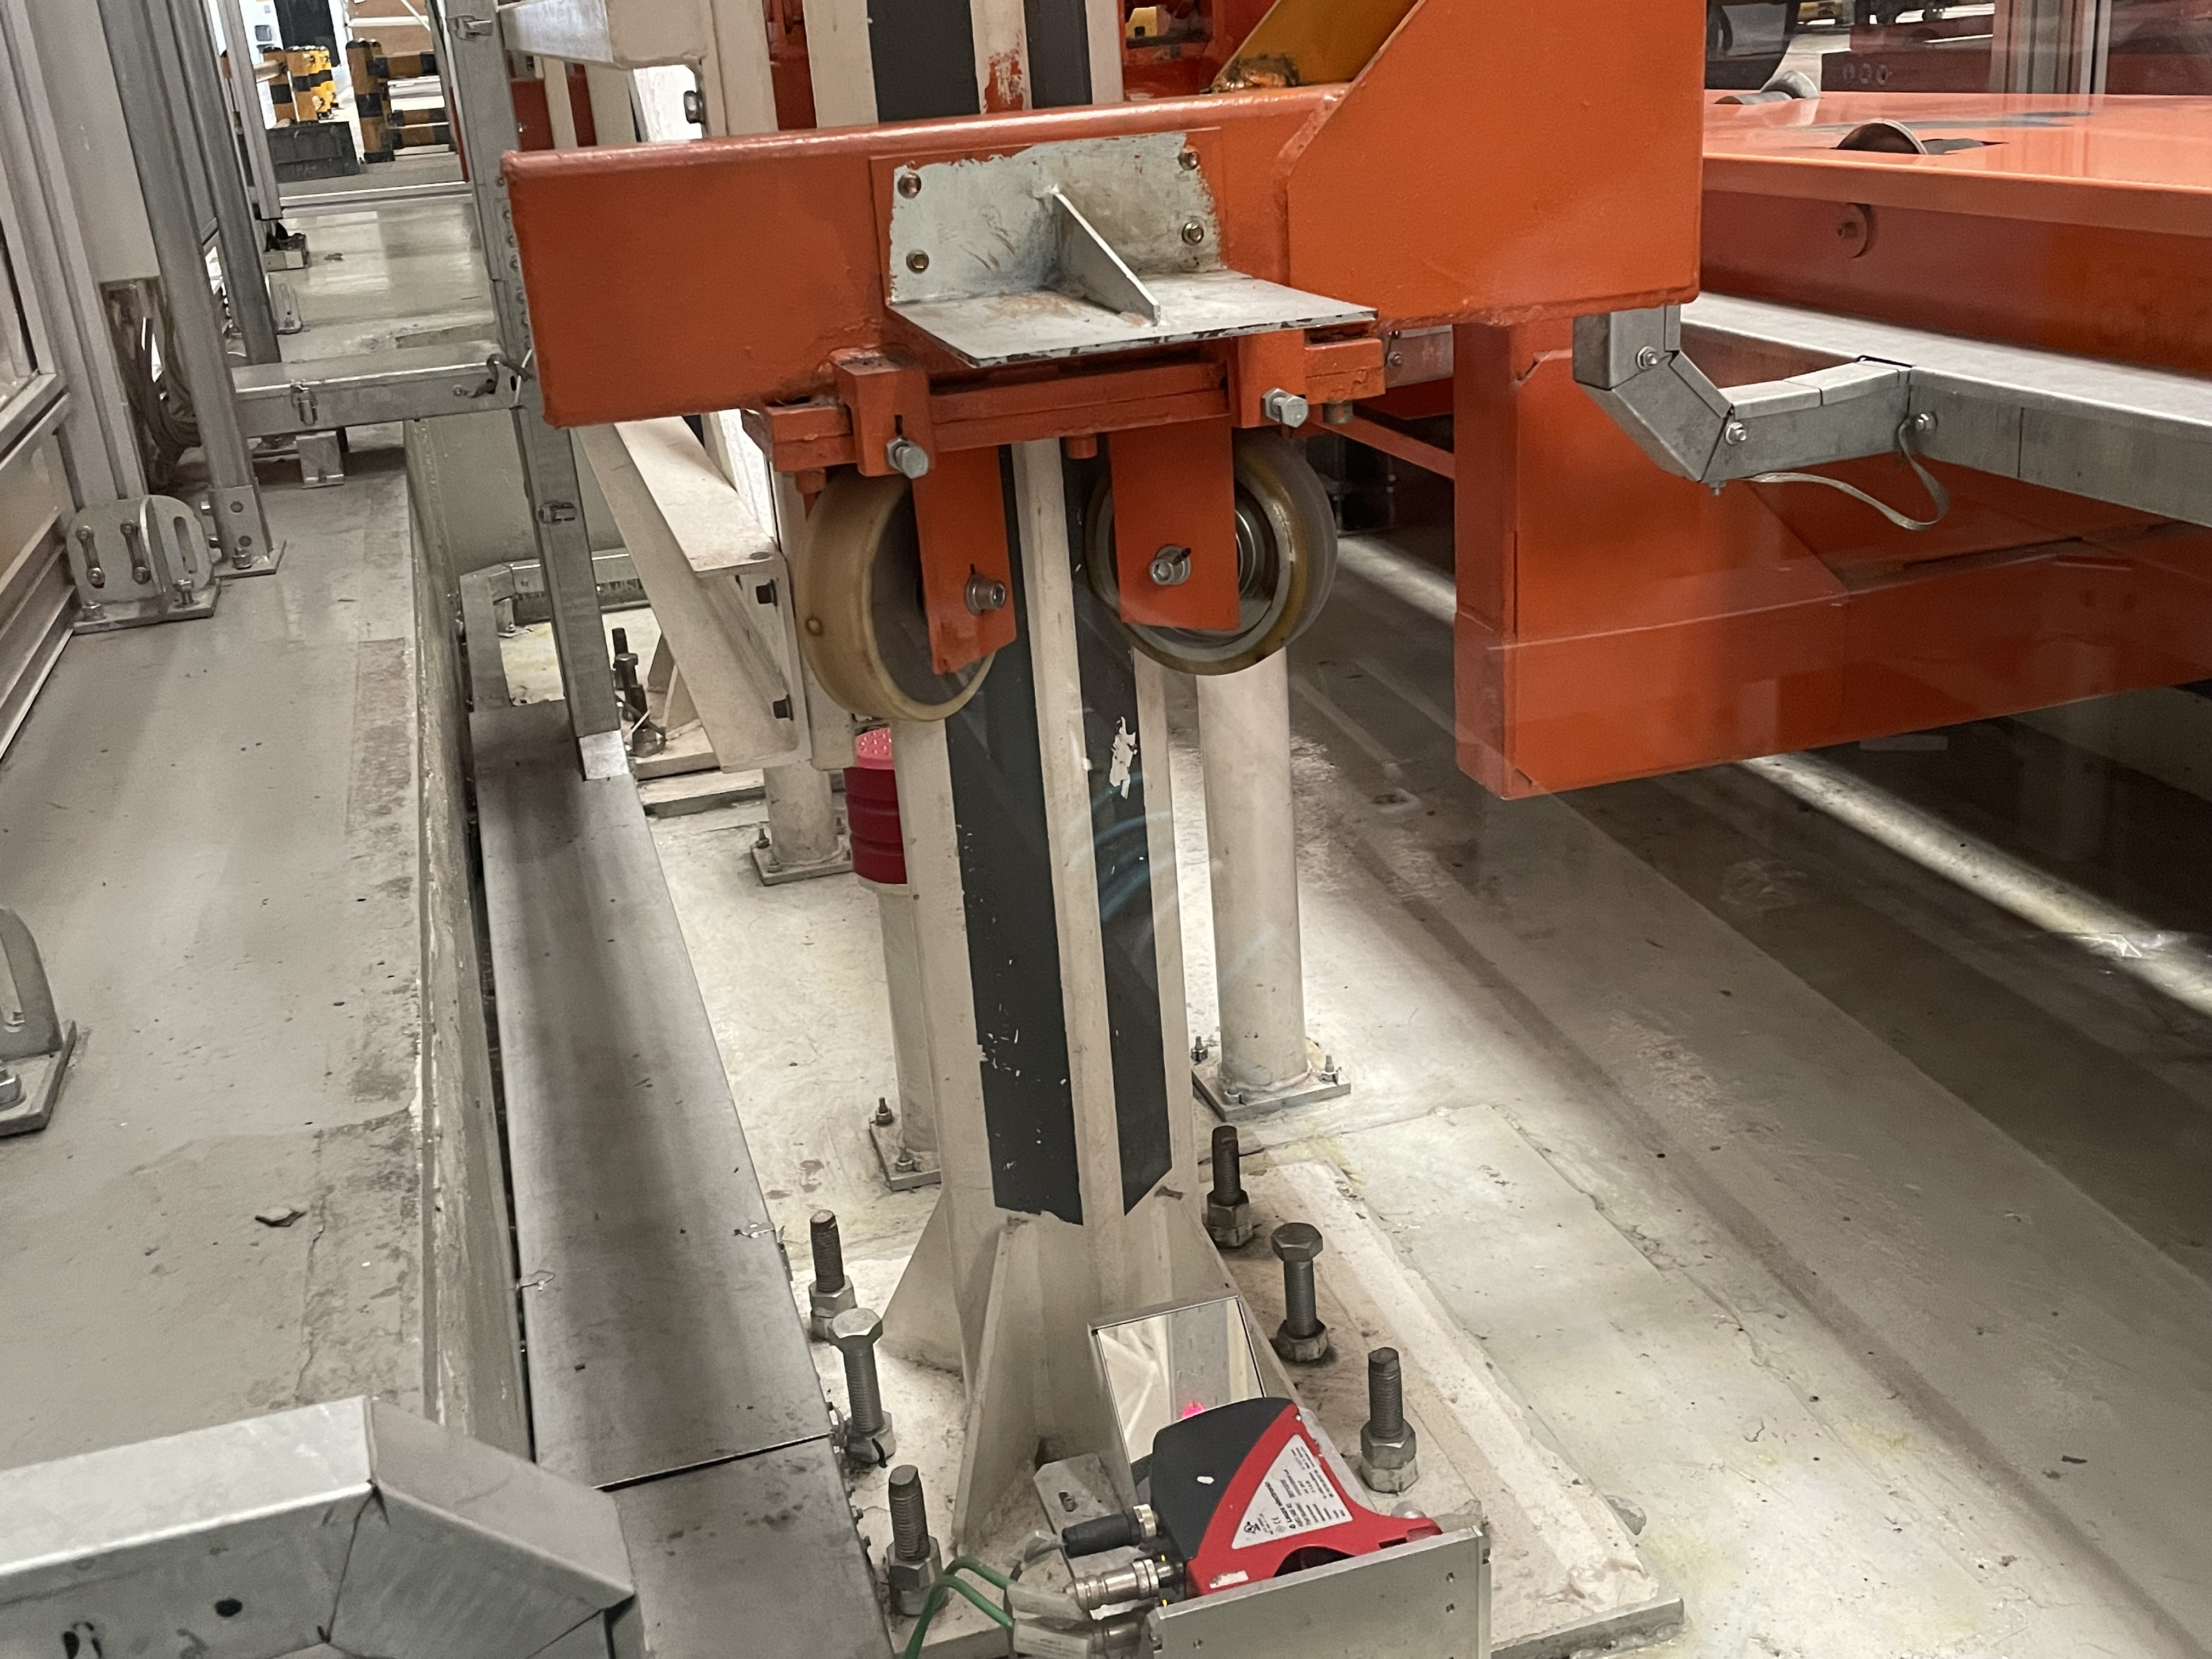bad_wheel: (1251, 490, 1324, 617)
good_wheel: (782, 481, 1015, 716)
